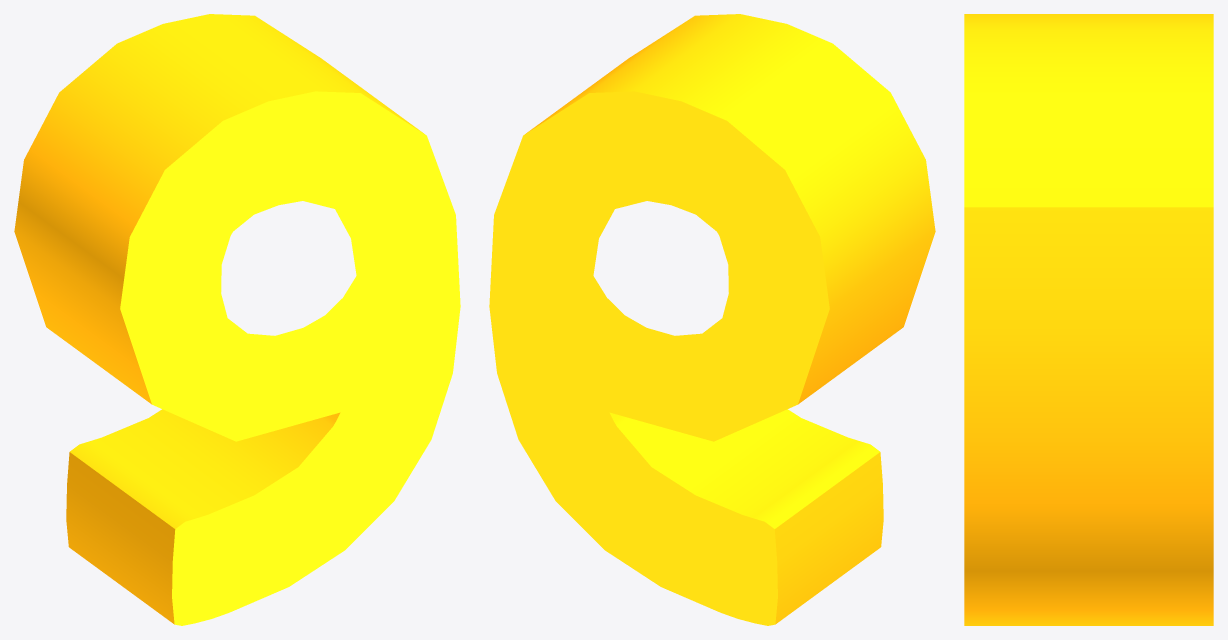
File: 9c0d137d-2924-4b22-bda5-2ec5330db4d3.glb
3 renders of one model, left to right at view 1: azimuth 30°, elevation 25°; view 2: azimuth 150°, elevation 25°; view 3: azimuth 270°, elevation 25°, orthographic. The views are drawn at different scales.
Visible parts, largest first — view 1: 9_Zyzol_Yellow; view 2: 9_Zyzol_Yellow; view 3: 9_Zyzol_Yellow.
Part boxes in pixels (x1,y1,x2,y2): 9_Zyzol_Yellow: (14, 14, 460, 625); 9_Zyzol_Yellow: (489, 14, 935, 625); 9_Zyzol_Yellow: (964, 14, 1213, 625).
Size of what is drawn, in the model's own units: 0.0837 by 0.1184 by 0.045.
2 materials, 2 textured.
